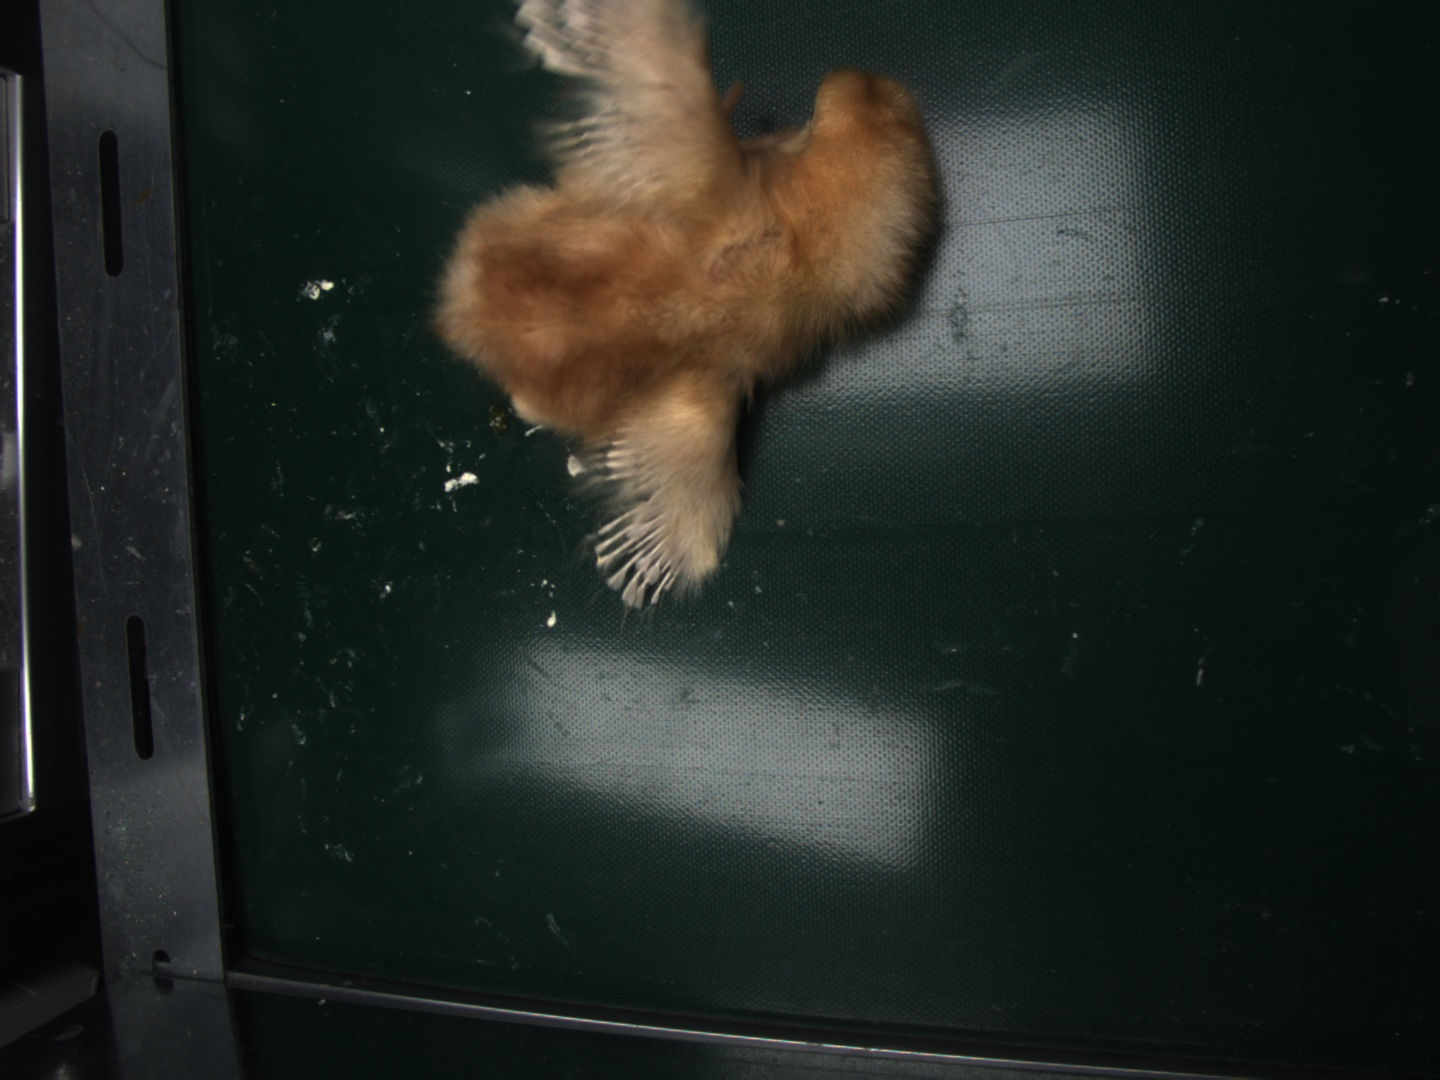female: (596, 504, 681, 606)
